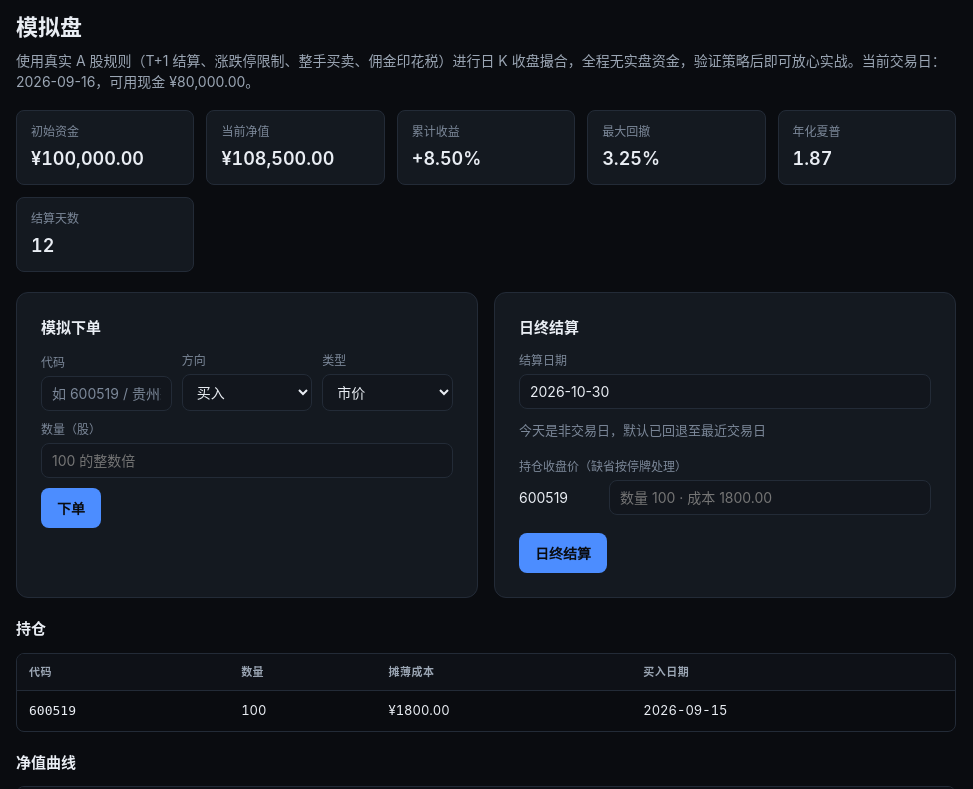
PaperTradingPage 日终结算 › 结算日期格式非法：拦下并提示 YYYY-MM-DD，不发起结算
Check: the button "下单" is enabled, box [41, 488, 101, 528]
Replace the text in the field labelled "结算日期" with "2026/09/16" at (725, 391), box [519, 374, 931, 408]
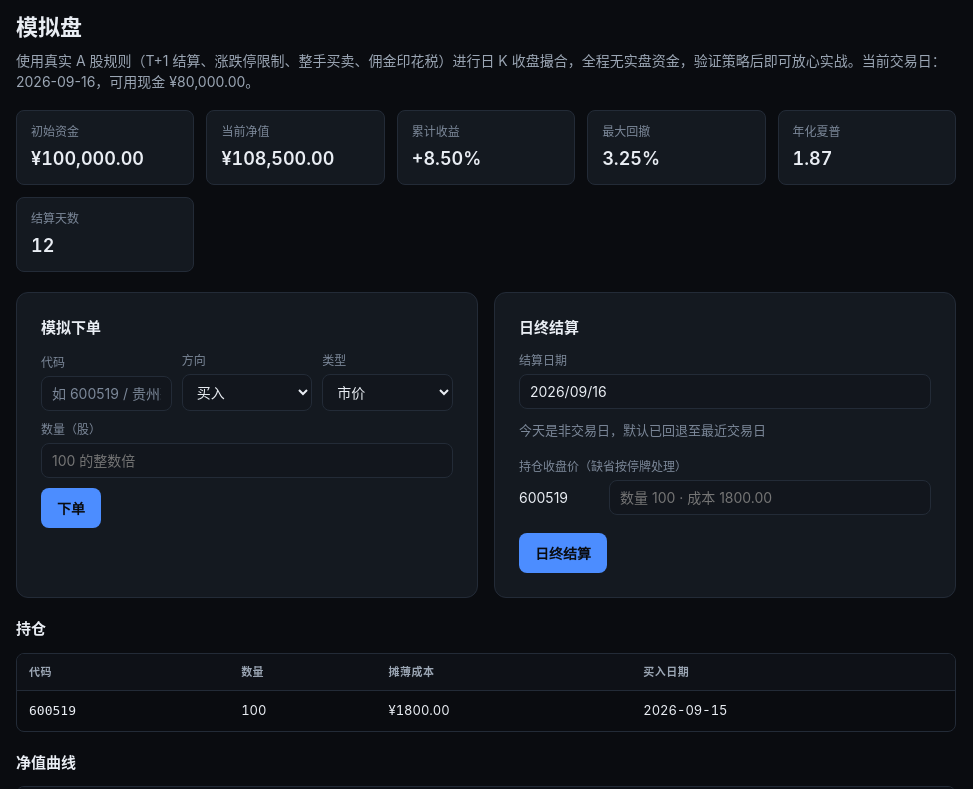
Click the button "日终结算" at (563, 553), box [519, 533, 607, 573]
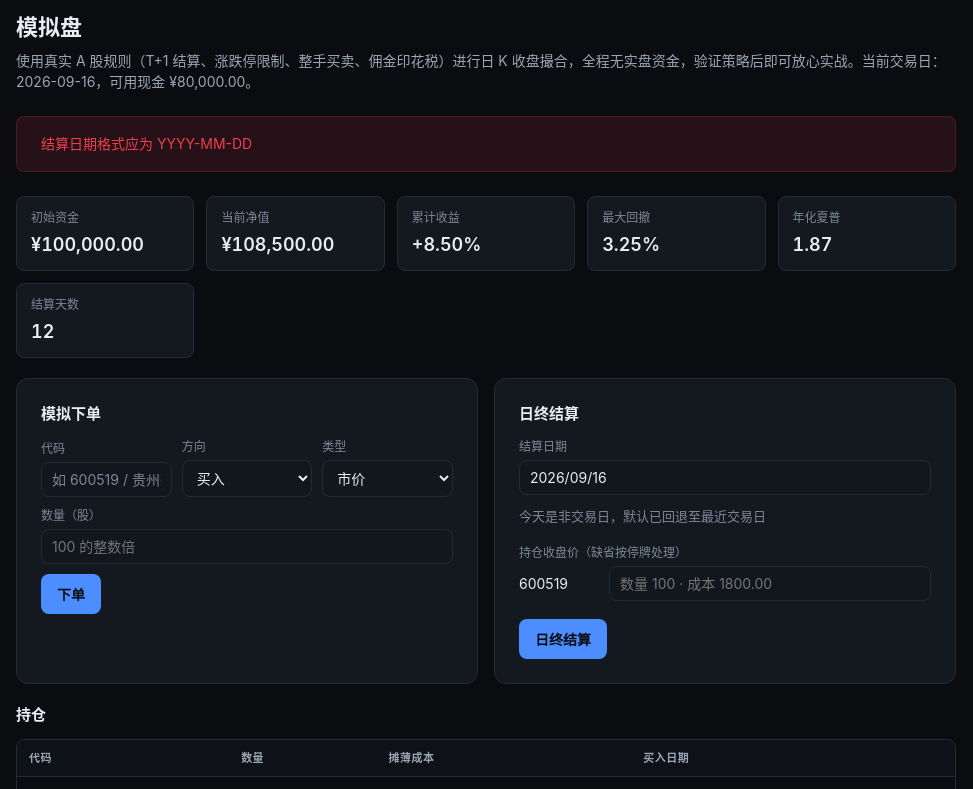
Check: the message reads "结算日期格式应为 YYYY-MM-DD", box [41, 135, 252, 152]
